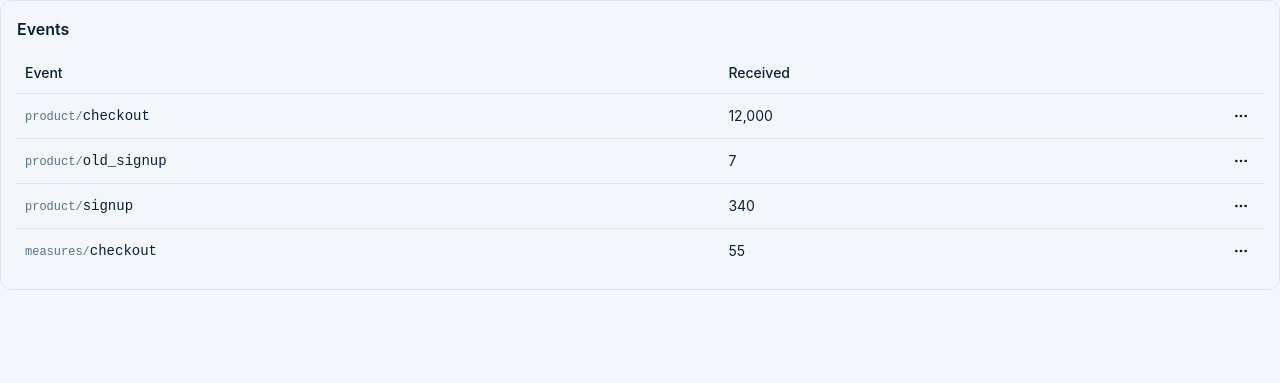
EventsSection › offers Rename, Merge into, Add alias and Block on an event
Click the button named "Actions for signup (product)": point(1241, 206) x1=1227 y1=192 x2=1255 y2=220
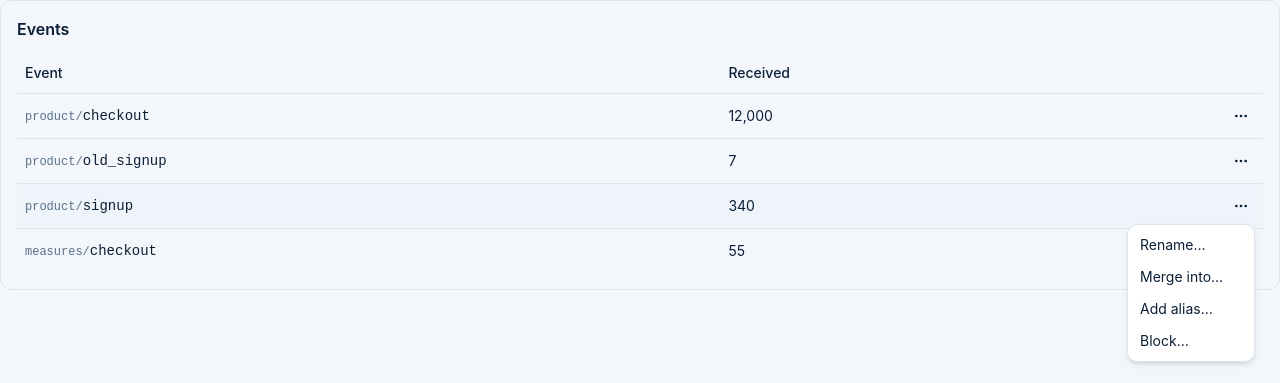
Now the menu items read "Rename…", "Merge into…", "Add alias…", "Block…", in this order, box x1=1140 y1=236 x2=1206 y2=253; x1=1140 y1=268 x2=1223 y2=285; x1=1140 y1=300 x2=1213 y2=317; x1=1140 y1=332 x2=1189 y2=349
